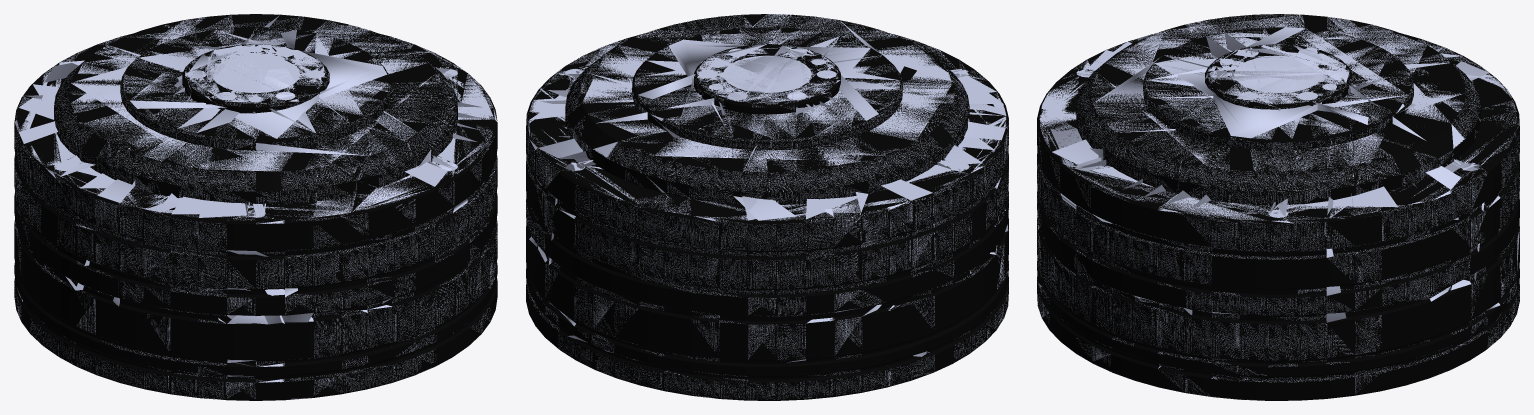
The model's file is R_thigh_link.dae.
The picture shows the model from 3 angles, left to right: view 1: azimuth 30°, elevation 25°; view 2: azimuth 150°, elevation 25°; view 3: azimuth 270°, elevation 25°; orthographic projection.
Parts seen in each view (by area): view 1: node0, node1, node2; view 2: node0, node1, node2; view 3: node0, node1, node2.
Boxes of the visible parts, x1,y1,x2,y2 form: node0: (14,14,497,400); node1: (14,18,497,398); node2: (14,15,497,399); node0: (526,14,1008,400); node1: (526,14,1008,399); node2: (526,14,1008,399); node0: (1037,14,1519,400); node1: (1037,14,1519,375); node2: (1037,15,1519,400).
Bounding box in the file's own units: 0.0979 × 0.0505 × 0.0979.
